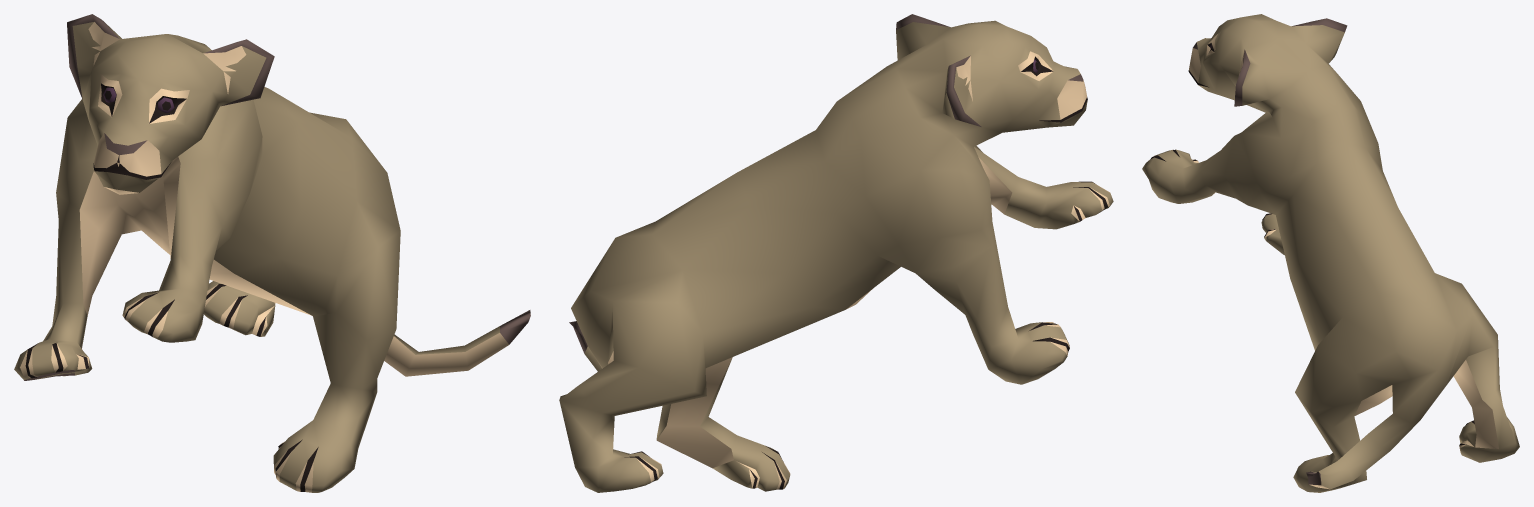
The model's file is lioncub.gltf.
3 views of the same model, side by side, from view 1: azimuth 30°, elevation 25°; view 2: azimuth 150°, elevation 25°; view 3: azimuth 270°, elevation 25° (orthographic). The views are drawn at different scales.
Visible parts, largest first — view 1: lioncub2; view 2: lioncub2; view 3: lioncub2.
Part boxes in pixels (<box>): lioncub2: <box>14,14,530,492</box>; lioncub2: <box>559,14,1113,492</box>; lioncub2: <box>1142,14,1519,492</box>.
Size of the model in its own units: 0.5511 by 0.5202 by 0.4527.
